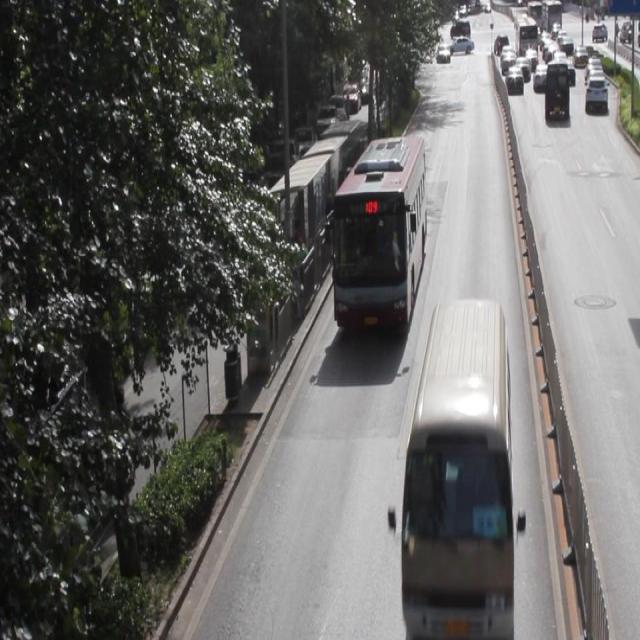truck: (399, 298, 512, 632)
van: (332, 136, 424, 324)
